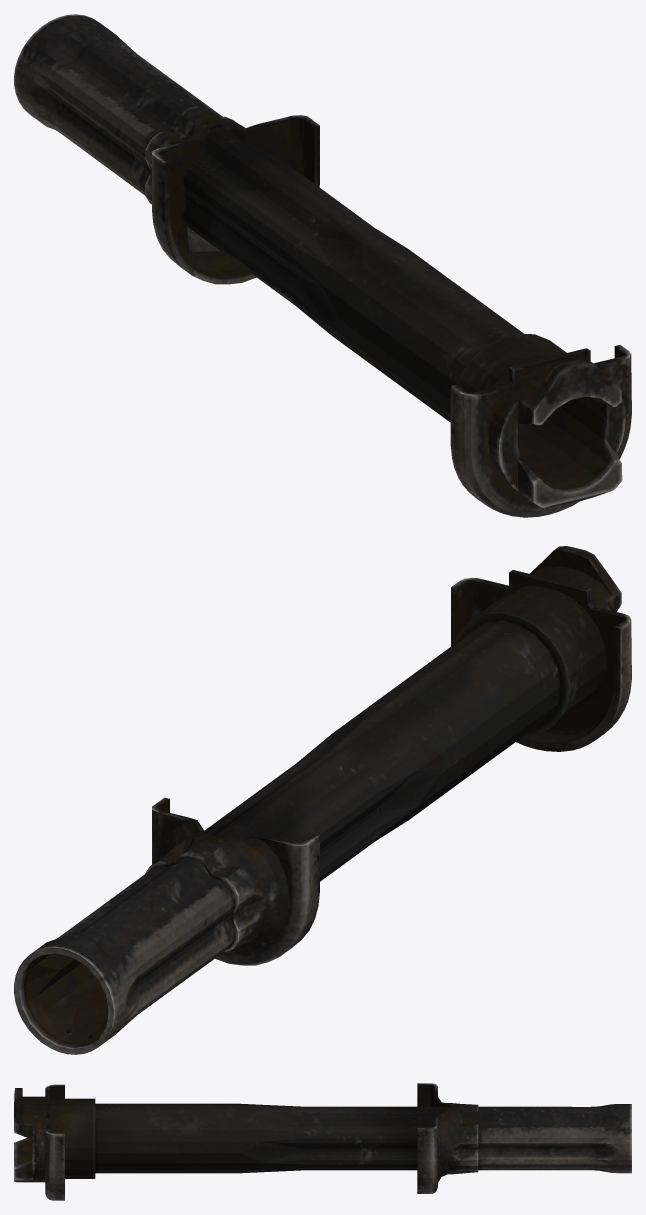
3 renders of one model, top to bottom at view 1: azimuth 30°, elevation 25°; view 2: azimuth 150°, elevation 25°; view 3: azimuth 270°, elevation 25°, orthographic. The views are drawn at different scales.
Parts seen in each view (by area): view 1: TW_59d64ec286f774171d1e0a42_PZ_Import; view 2: TW_59d64ec286f774171d1e0a42_PZ_Import; view 3: TW_59d64ec286f774171d1e0a42_PZ_Import.
Boxes of the visible parts, x1,y1,x2,y2 form: TW_59d64ec286f774171d1e0a42_PZ_Import: (14,14,631,517); TW_59d64ec286f774171d1e0a42_PZ_Import: (14,546,631,1054); TW_59d64ec286f774171d1e0a42_PZ_Import: (14,1083,631,1200).
Bounding box in the file's own units: 0.0201 × 0.1054 × 0.0193.
1 material, 1 textured.
